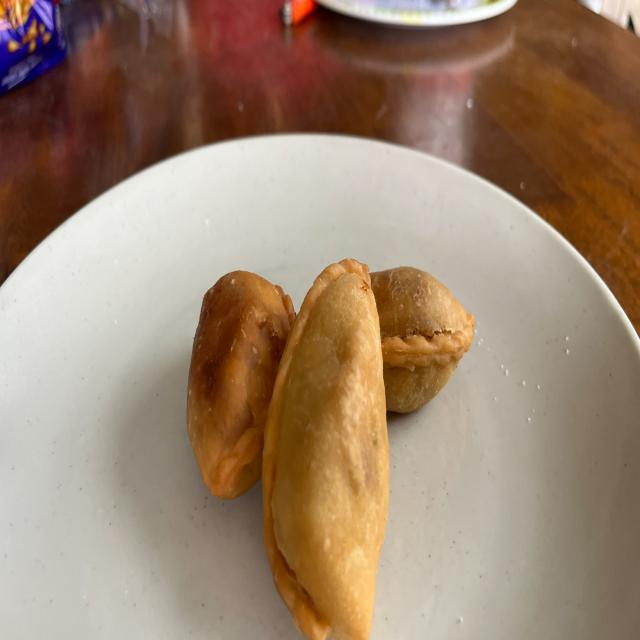karipap: (262, 258, 390, 638), (186, 271, 295, 500), (370, 267, 475, 413)
